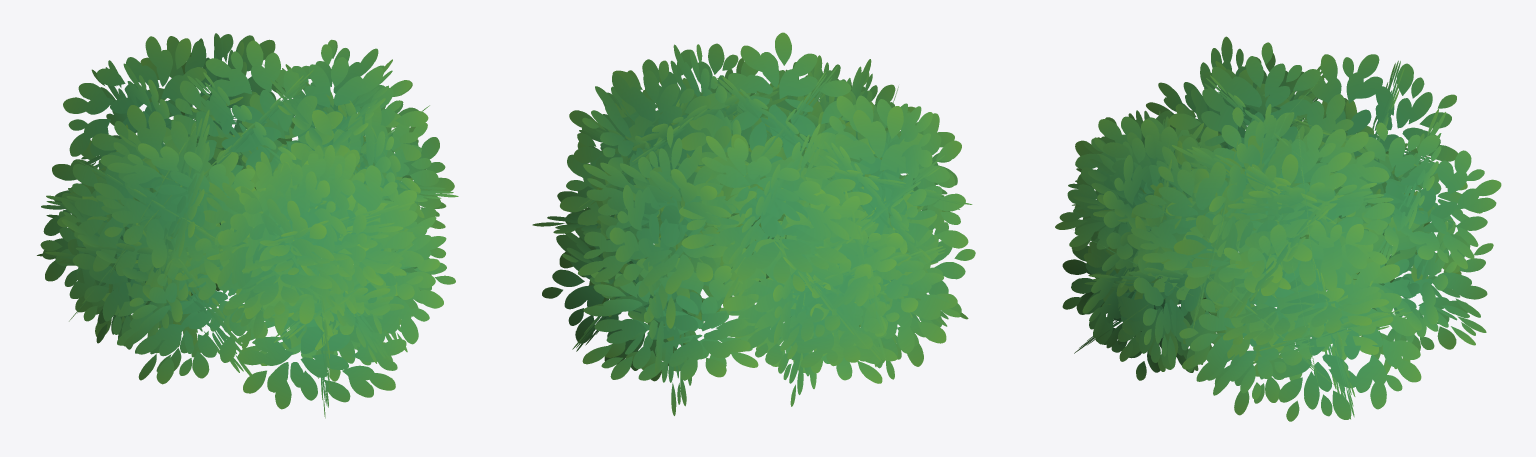
File: SM_ENV_bush_city_01.fbx
The picture shows the model from 3 angles, left to right: view 1: azimuth 30°, elevation 25°; view 2: azimuth 150°, elevation 25°; view 3: azimuth 270°, elevation 25°; orthographic projection. The views are drawn at different scales.
Visible parts, largest first — view 1: SM_ENV_bush_city_01_LOD0; view 2: SM_ENV_bush_city_01_LOD0; view 3: SM_ENV_bush_city_01_LOD0.
Part boxes in pixels (x1,y1,x2,y2): SM_ENV_bush_city_01_LOD0: (37, 33, 458, 418); SM_ENV_bush_city_01_LOD0: (532, 32, 975, 415); SM_ENV_bush_city_01_LOD0: (1055, 36, 1501, 421).
Size of what is drawn, in the model's own units: 185 by 157 by 193.
